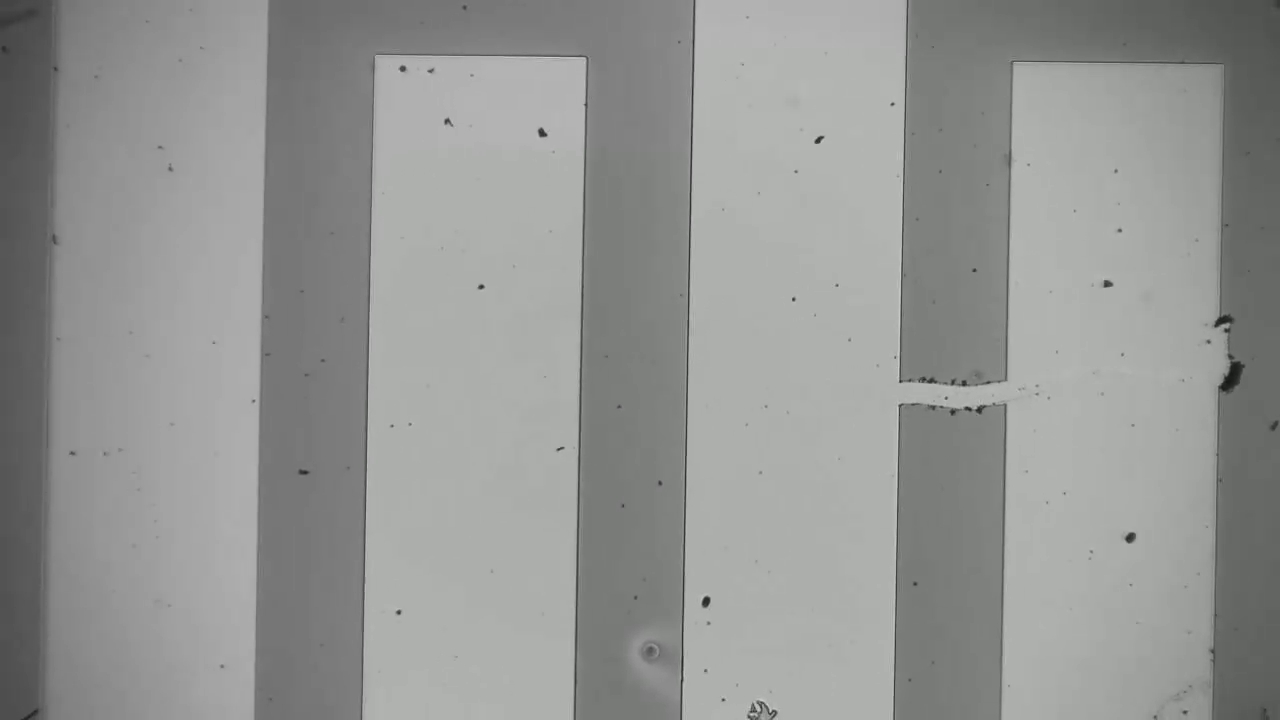Short_circuit: (869, 345, 1036, 432)
